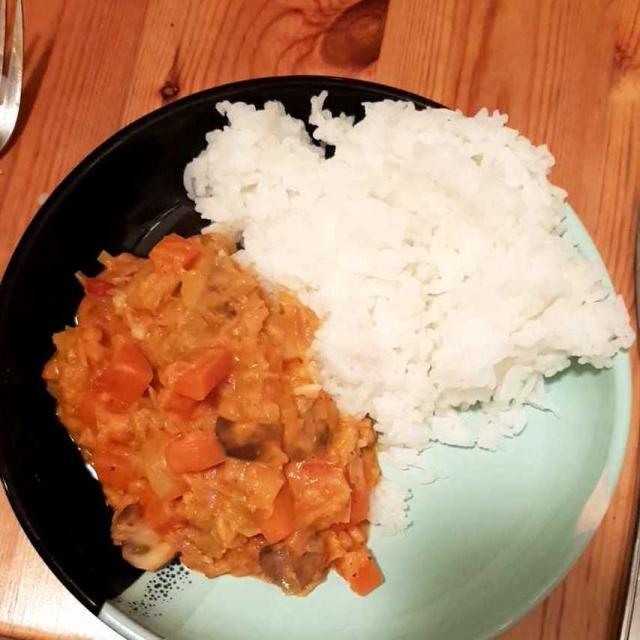curry-vegetarian: (58, 229, 386, 586)
rice: (198, 108, 620, 447)
